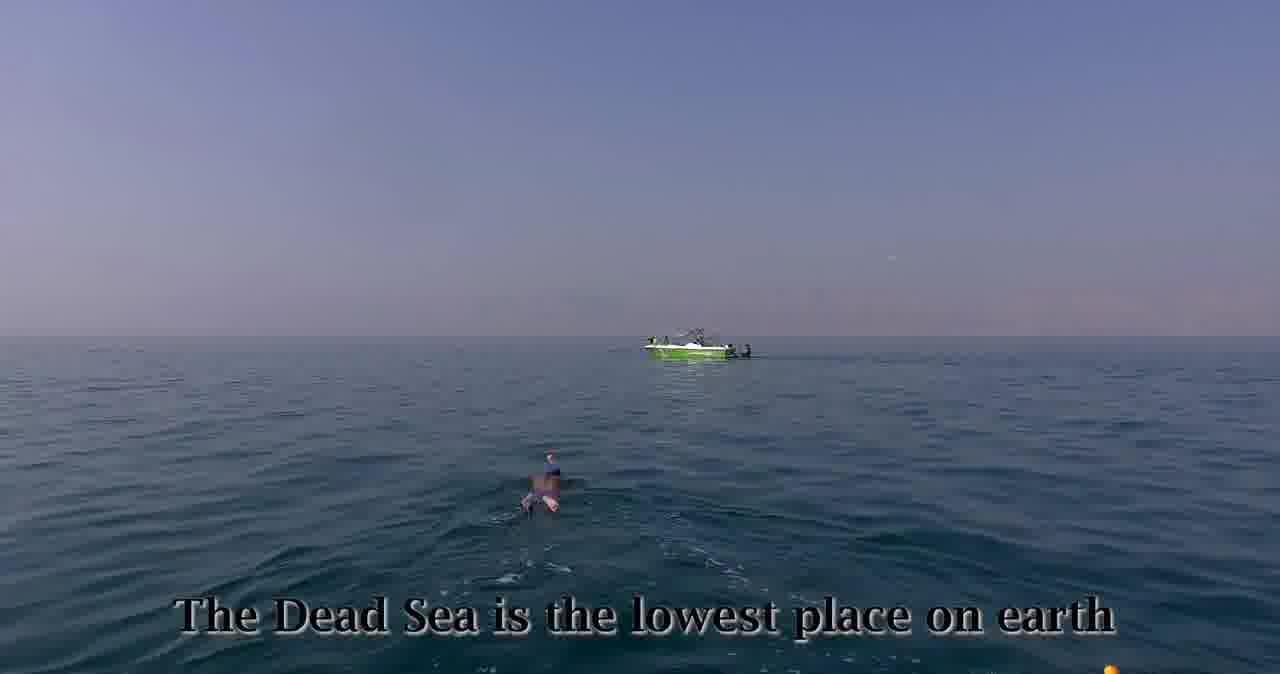swimmer: (521, 458, 586, 524)
